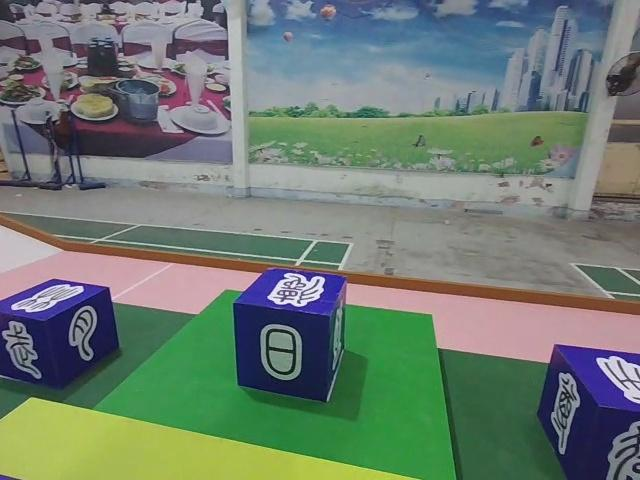R2 Fake Blue: (233, 267, 347, 405), (534, 346, 639, 480), (1, 280, 121, 392)
